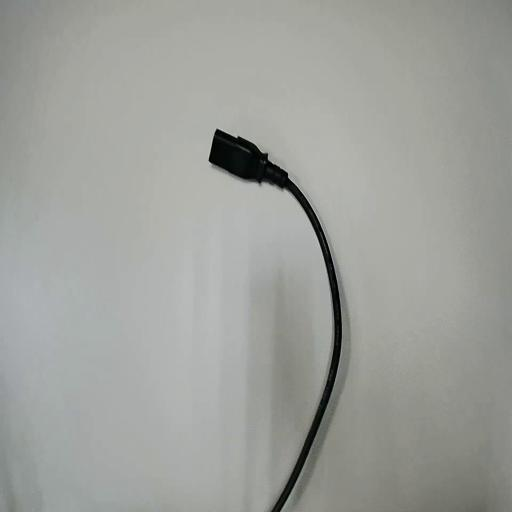wire: (210, 130, 341, 511)
